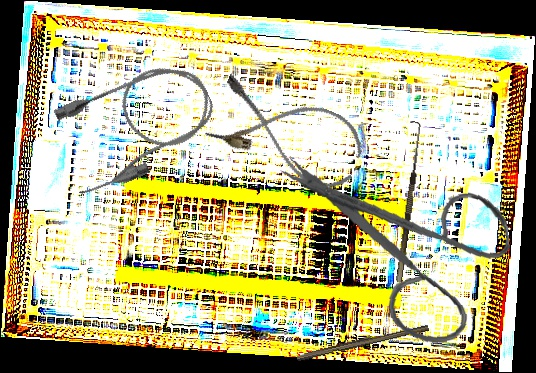Cannula: (44, 50, 228, 202), (203, 69, 372, 197)
Hook Surgical: (387, 120, 425, 283)
Iris Scissors: (279, 134, 519, 358)
Scalpel Handle: (295, 320, 430, 364)
